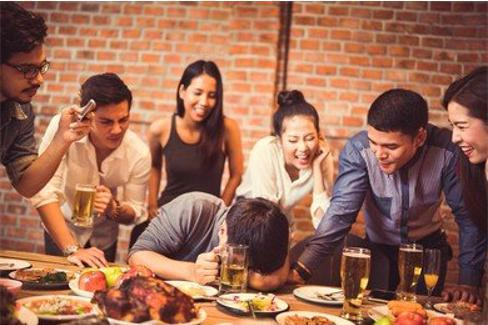Drunk: (6, 47, 49, 102), (447, 102, 484, 165), (366, 125, 409, 173), (93, 102, 131, 150), (285, 116, 320, 167), (186, 77, 216, 123)
